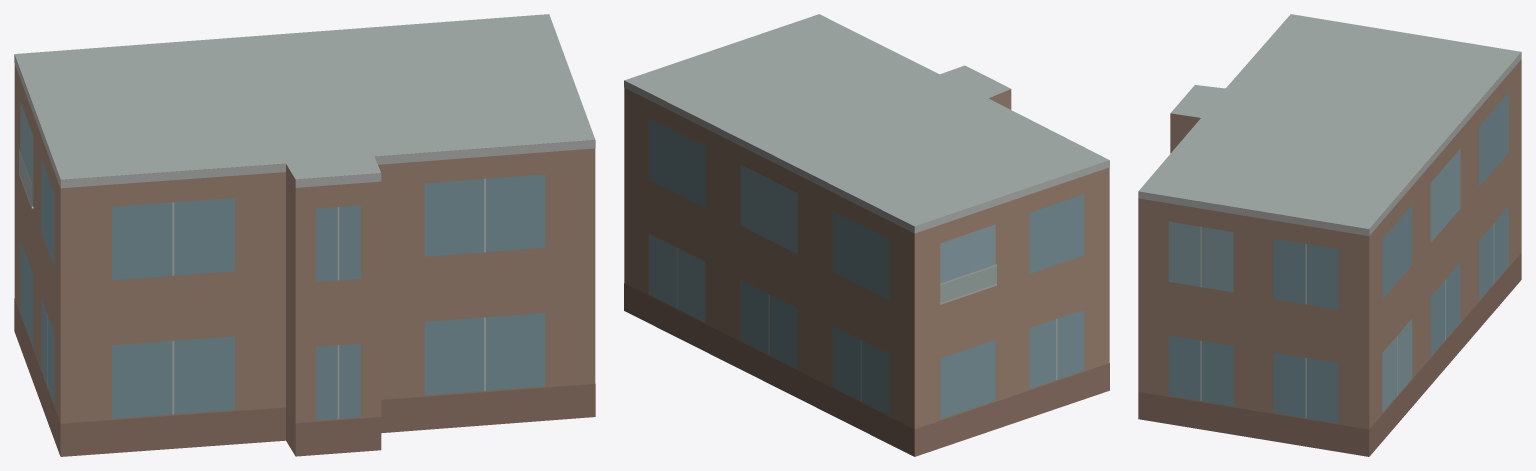
File: survey-upis-32513108.glb
3 views of the same model, side by side, from view 1: azimuth 30°, elevation 25°; view 2: azimuth 150°, elevation 25°; view 3: azimuth 270°, elevation 25° (orthographic). The views are drawn at different scales.
Parts seen in each view (by area): view 1: survey-upis-32513108.tmp; view 2: survey-upis-32513108.tmp; view 3: survey-upis-32513108.tmp.
Boxes of the visible parts, x1,y1,x2,y2 form: survey-upis-32513108.tmp: [14, 14, 595, 456]; survey-upis-32513108.tmp: [624, 14, 1109, 456]; survey-upis-32513108.tmp: [1138, 14, 1521, 456].
Bounding box in the file's own units: 16.01 × 7.9 × 12.06.
